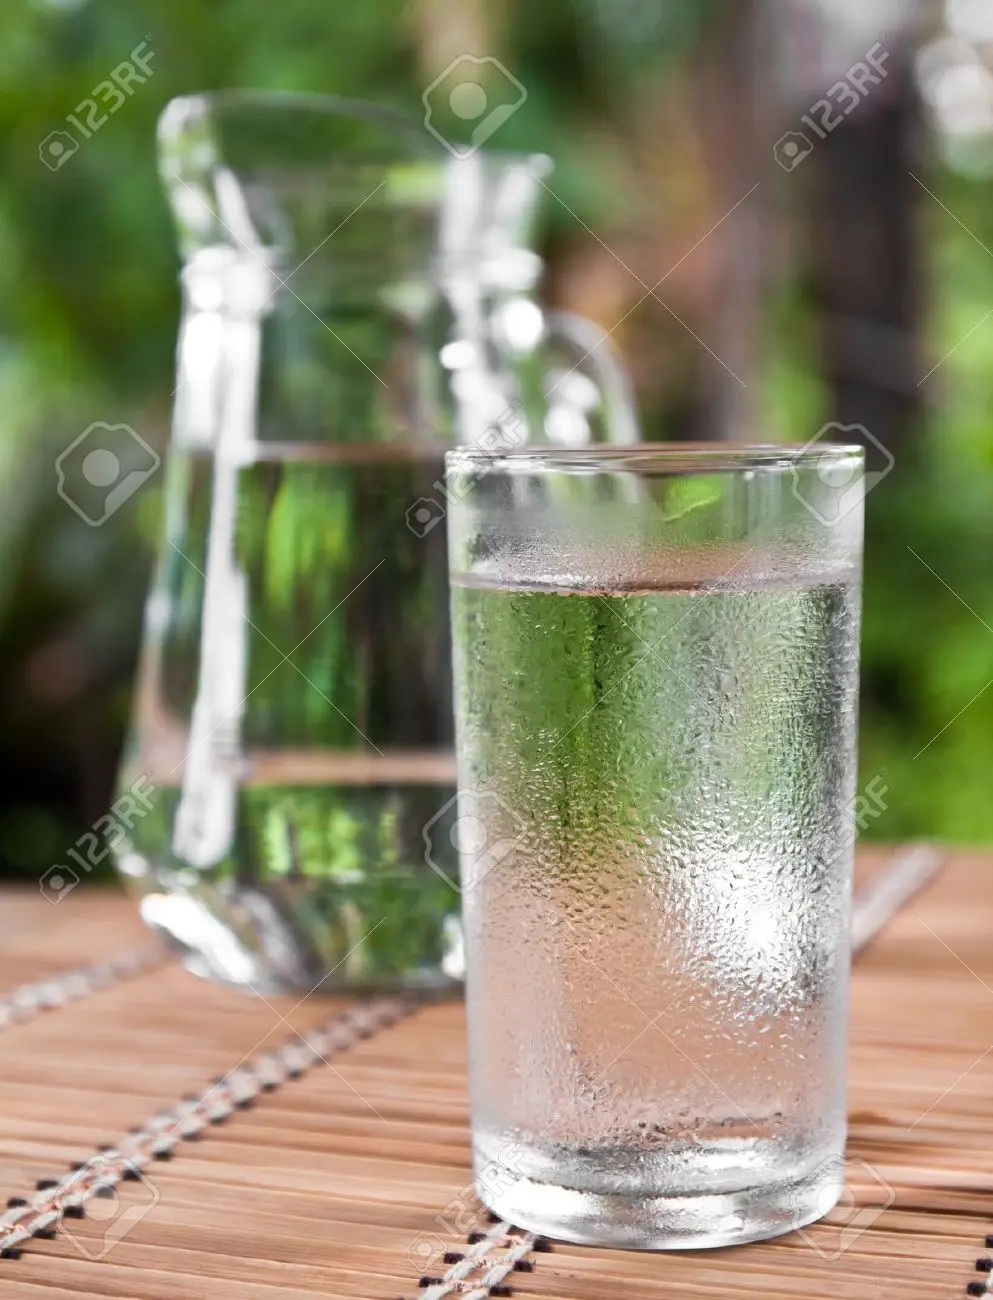glass: (434, 431, 865, 1253)
